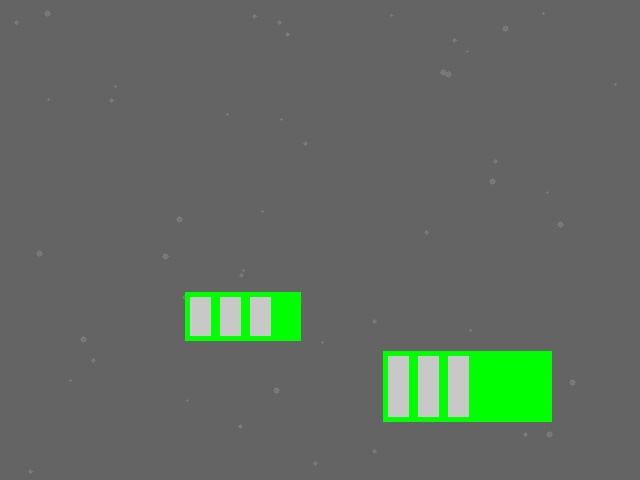bus: (383, 351, 551, 421), (185, 292, 300, 340)
